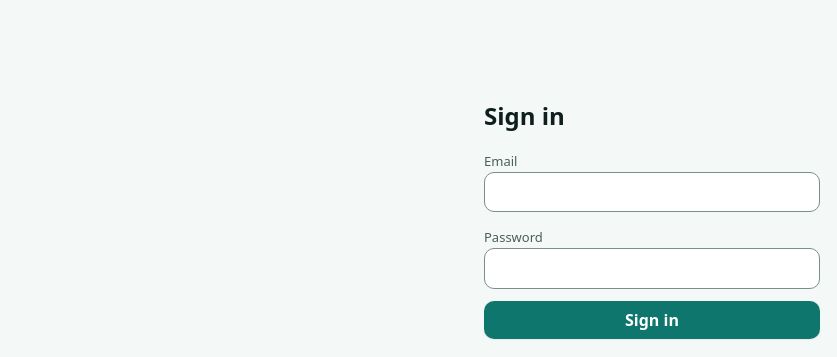
Test: Login page › goes back to the page the user came from after signing in
The width and height of the screenshot is (837, 357).
Type "a@x.test" into the field labelled "Email". click: (652, 192)
box: [484,172,820,212]
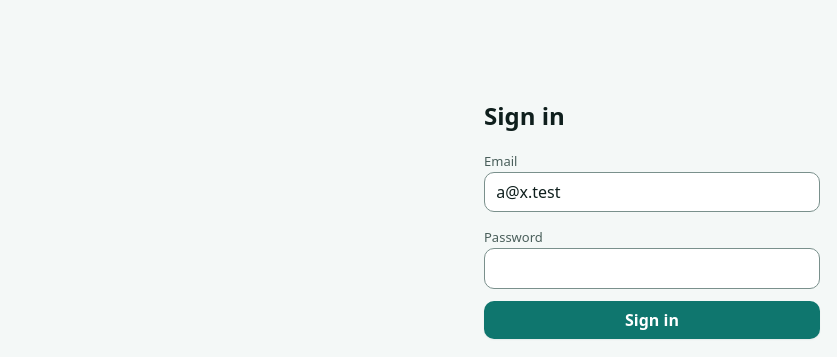
Type "pw" into the password field labelled "Password". click: (652, 269)
box: [484,248,820,289]
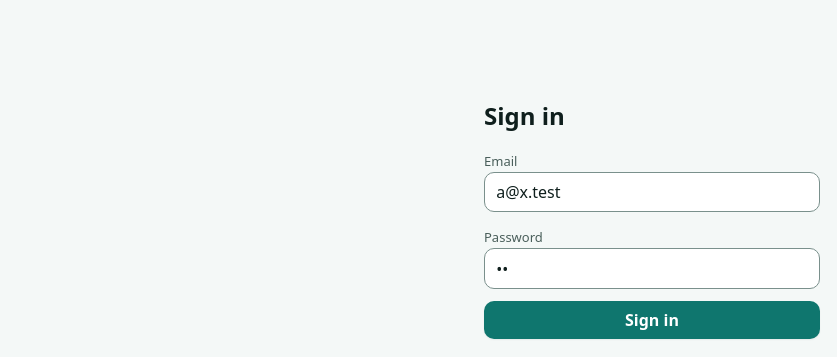
Click the button "Sign in". click: (652, 320)
box: [484,301,820,339]
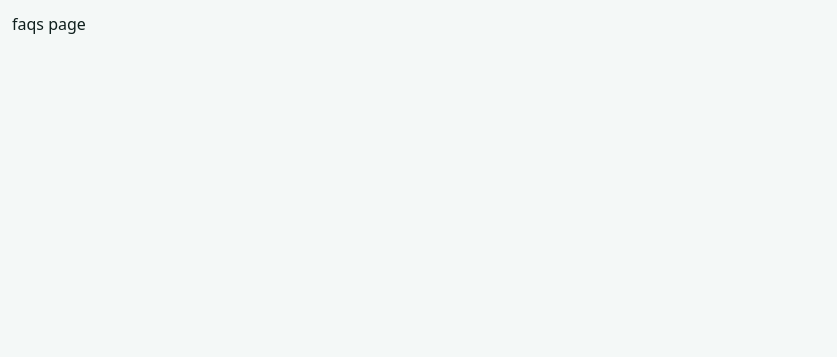
Expected: the text "faqs page" is shown, [12,13,86,35]
